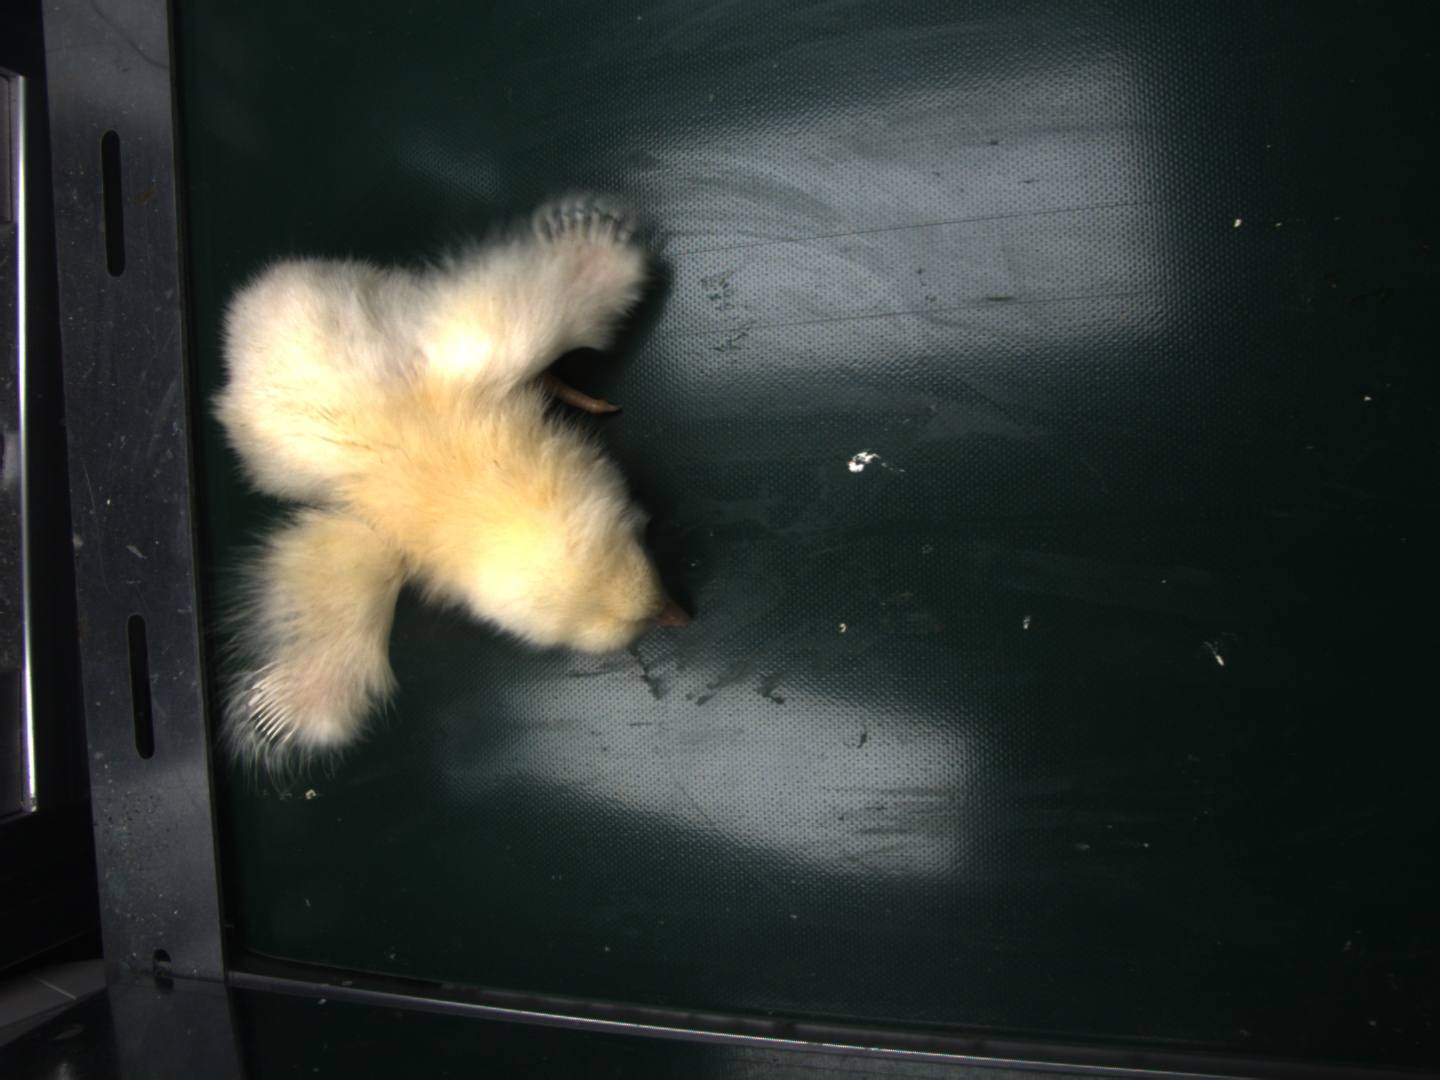male: (239, 656, 306, 748)
